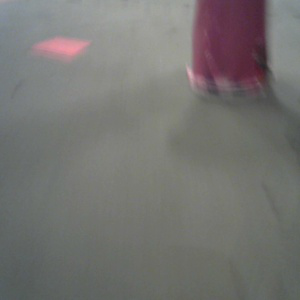right: (184, 1, 277, 99)
